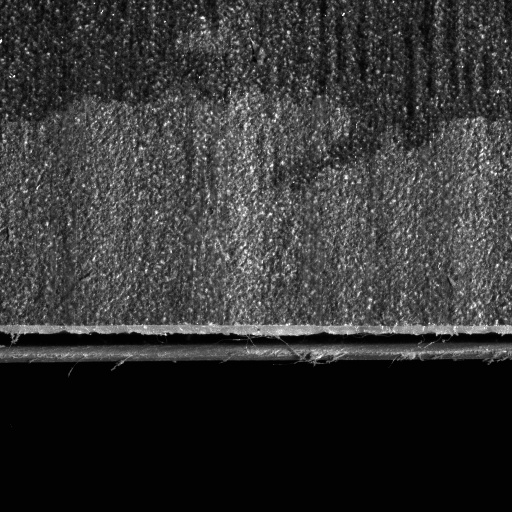kaijiao: (1, 321, 511, 369)
